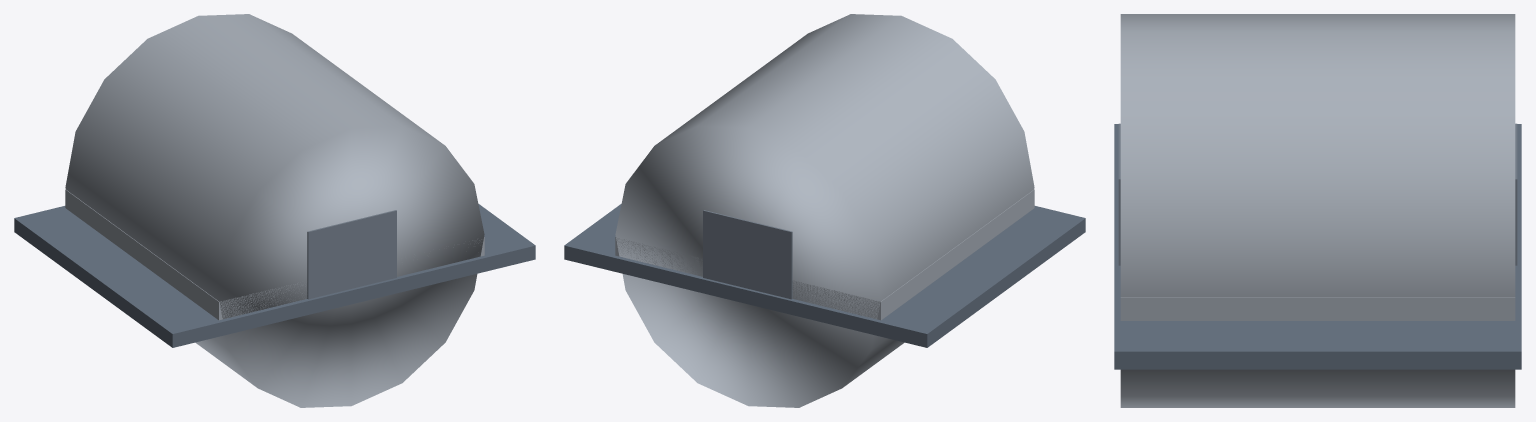
File: industrial-warehouse-curved.glb
3 renders of one model, left to right at view 1: azimuth 30°, elevation 25°; view 2: azimuth 150°, elevation 25°; view 3: azimuth 270°, elevation 25°, orthographic. The views are drawn at different scales.
Visible parts, largest first — view 1: Root; view 2: Root; view 3: Root.
Part boxes in pixels (x1=…): Root: x1=14, y1=14, x2=535, y2=407; Root: x1=564, y1=14, x2=1085, y2=407; Root: x1=1114, y1=14, x2=1521, y2=407.
Size of the model in its own units: 16.4 by 12 by 12.4.
